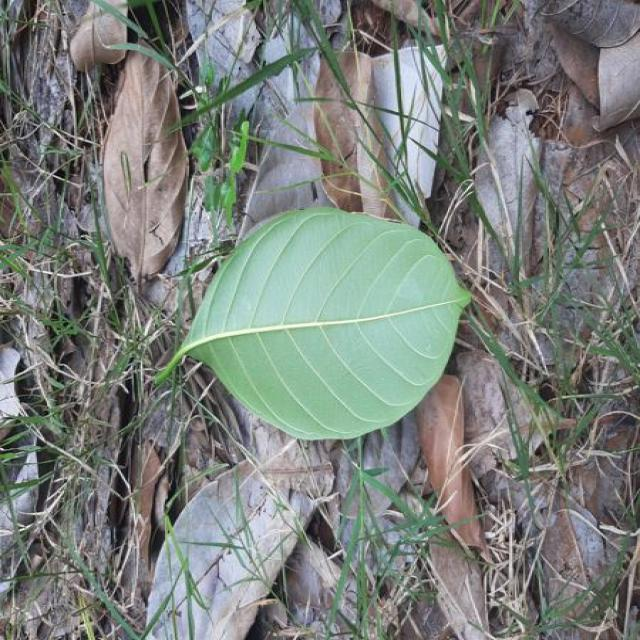Jackfruit: (157, 208, 470, 439)
